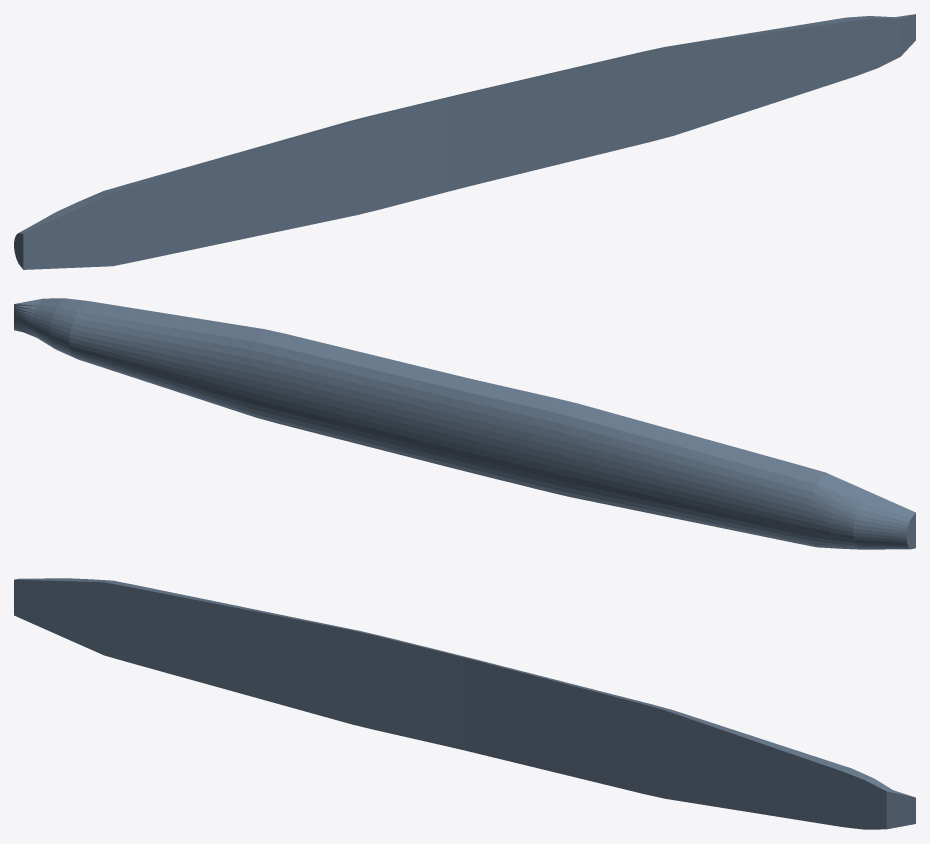
The model's file is loft-dragon-boat.glb.
The picture shows the model from 3 angles, top to bottom: view 1: azimuth 30°, elevation 25°; view 2: azimuth 150°, elevation 25°; view 3: azimuth 330°, elevation 25°; orthographic projection.
Visible parts, largest first — view 1: dragon-boat; view 2: dragon-boat; view 3: dragon-boat.
Boxes of the visible parts, bbox=[...] form: dragon-boat: bbox=[14, 14, 915, 269]; dragon-boat: bbox=[14, 298, 915, 549]; dragon-boat: bbox=[14, 578, 915, 829].
Bounding box in the file's own units: 1.78 × 0.1795 × 0.0649.
